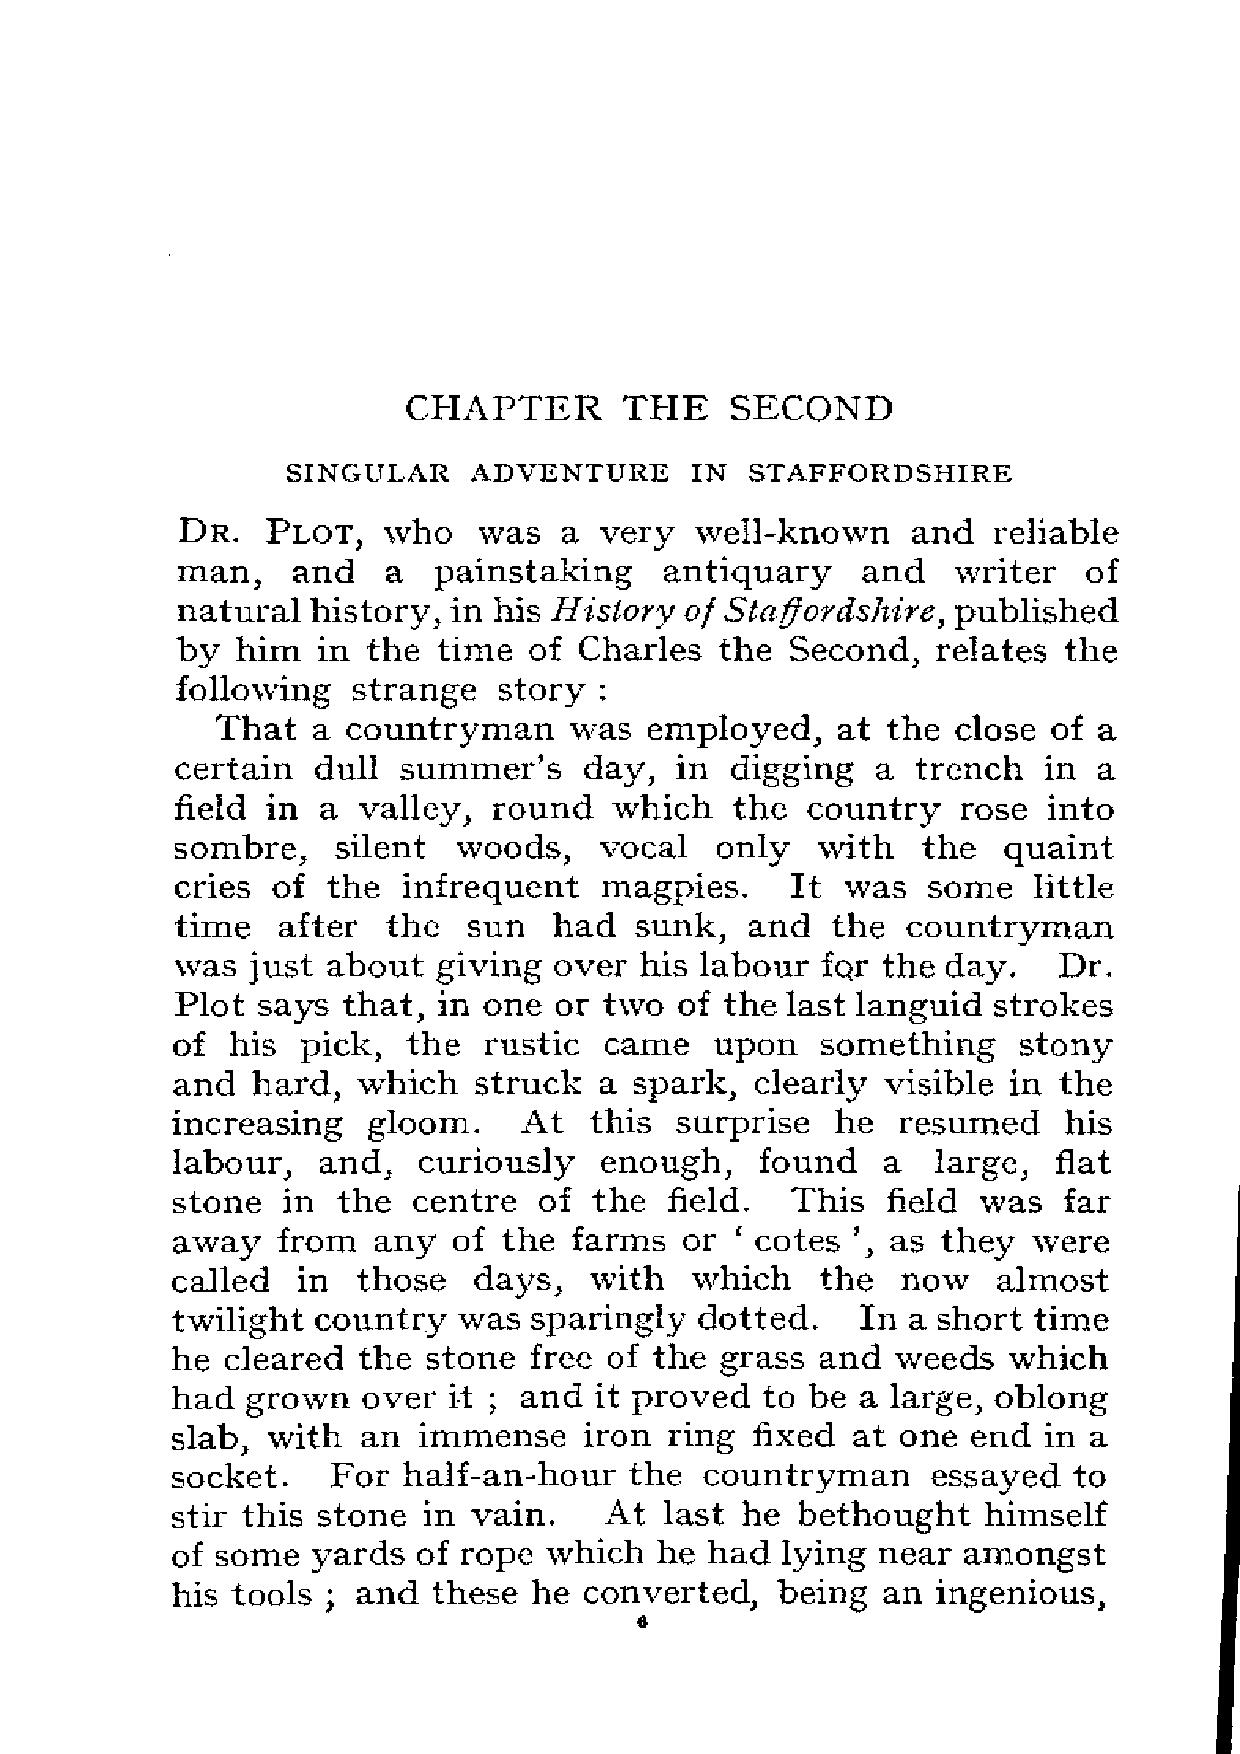chapter: (282, 392, 1011, 487)
content: (169, 509, 1121, 1610)
content_pagenumber: (633, 1613, 650, 1633)
